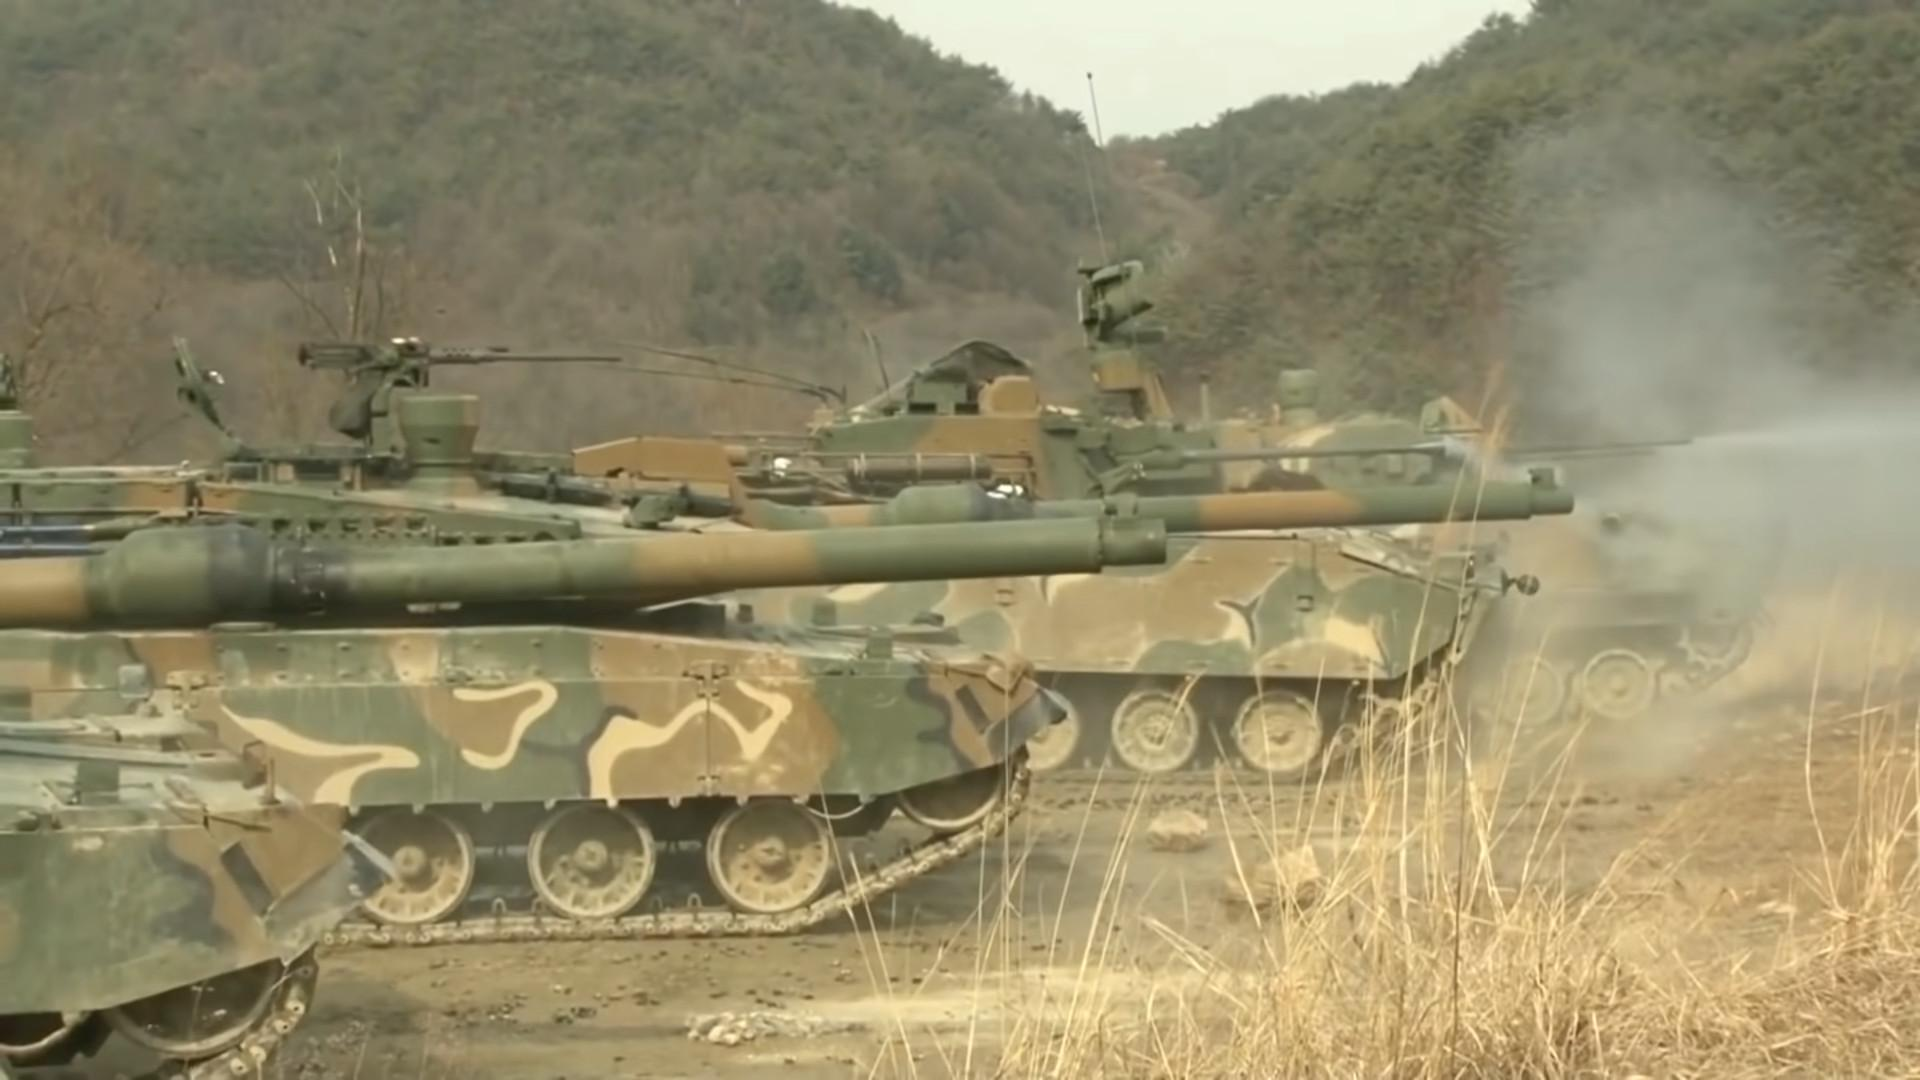tank: (3, 389, 1575, 956), (0, 517, 1168, 1079), (662, 336, 1510, 782), (1237, 411, 1776, 733)
